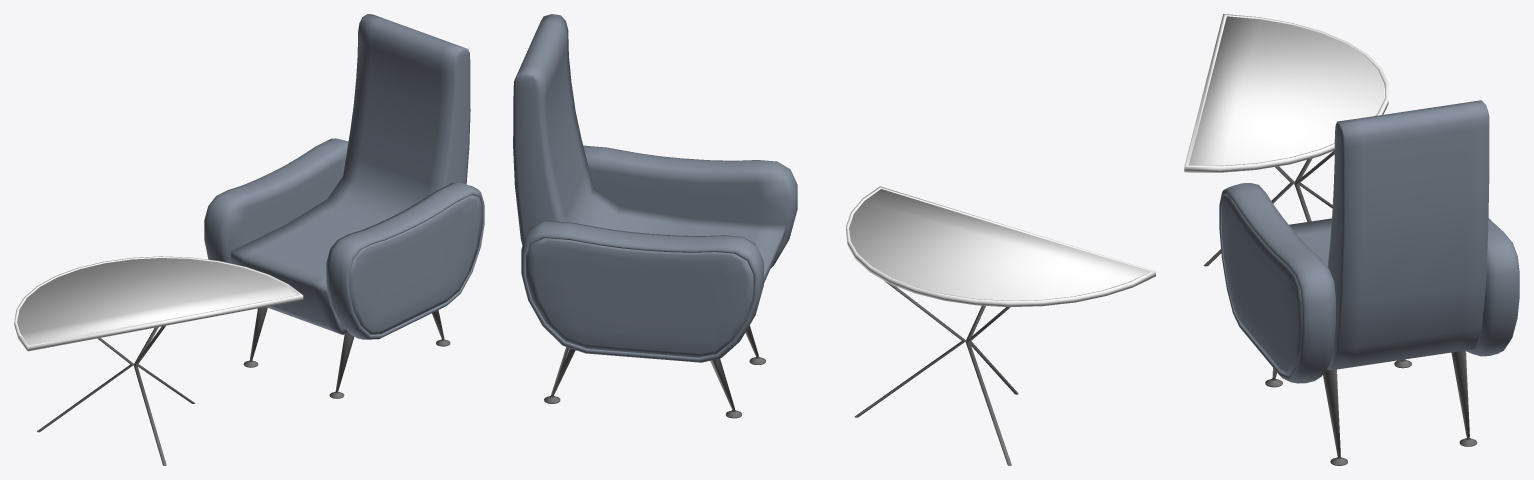
Rendered from armchair_and_table3.glb.
The picture shows the model from 3 angles, left to right: view 1: azimuth 30°, elevation 25°; view 2: azimuth 150°, elevation 25°; view 3: azimuth 270°, elevation 25°; orthographic projection. The views are drawn at different scales.
Visible parts, largest first — view 1: sofa_zul.001_Cube.049, Circle, Circle.001, Tube.001_Tube.005, sofa_zul_potas.001_Tube.003; view 2: sofa_zul.001_Cube.049, Circle, Circle.001, Tube.001_Tube.005, sofa_zul_potas.001_Tube.003; view 3: sofa_zul.001_Cube.049, Circle, Circle.001, sofa_zul_potas.001_Tube.003, Tube.001_Tube.005.
Boxes of the visible parts, x1,y1,x2,y2 form: sofa_zul.001_Cube.049: (204,14,484,339); Circle: (17,258,297,344); Circle.001: (14,256,303,351); Tube.001_Tube.005: (37,325,195,465); sofa_zul_potas.001_Tube.003: (243,307,450,398); sofa_zul.001_Cube.049: (513,14,797,362); Circle: (849,189,1149,300); Circle.001: (846,186,1155,307); Tube.001_Tube.005: (854,281,1018,465); sofa_zul_potas.001_Tube.003: (544,325,765,418); sofa_zul.001_Cube.049: (1219,100,1519,383); Circle: (1189,16,1384,165); Circle.001: (1184,14,1388,172); sofa_zul_potas.001_Tube.003: (1265,350,1477,465); Tube.001_Tube.005: (1204,150,1334,266).
Size of the model in its own units: 1.69 by 0.949 by 0.8256.
